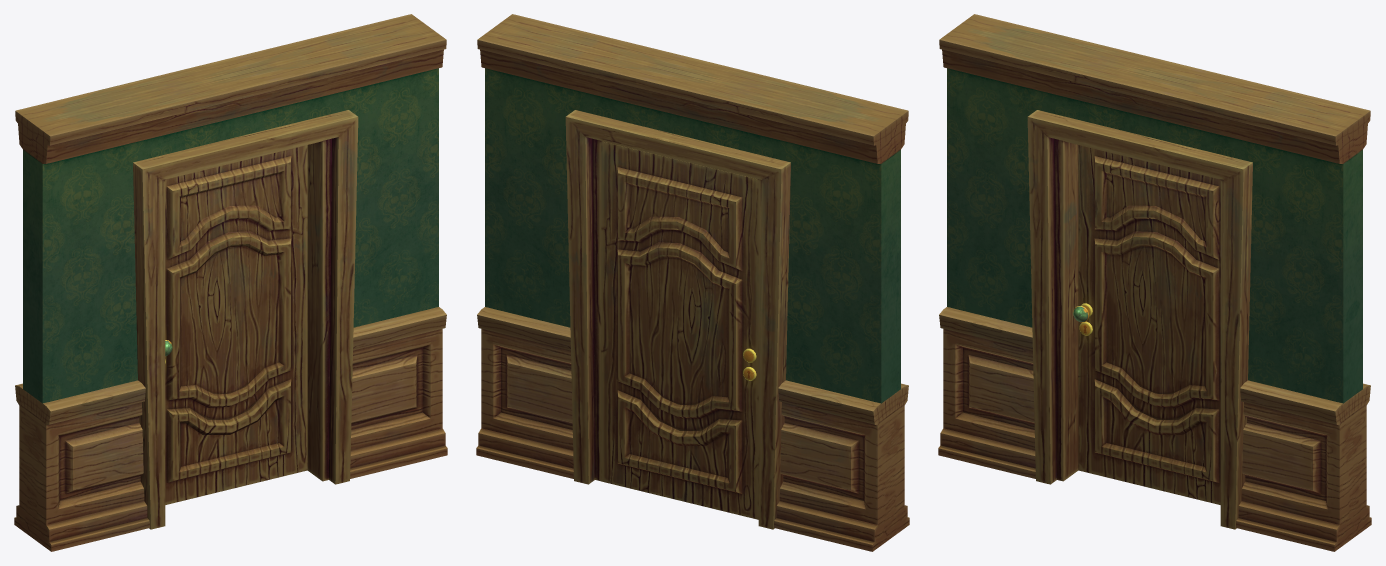
The model's file is DoorWay.fbx.
3 renders of one model, left to right at view 1: azimuth 30°, elevation 25°; view 2: azimuth 150°, elevation 25°; view 3: azimuth 330°, elevation 25°, orthographic.
Visible parts, largest first — view 1: Wall_Top_low, Door_low, Wall_Bottom_low, Door_Frame_low; view 2: Wall_Top_low, Door_low, Wall_Bottom_low, Door_Frame_low; view 3: Wall_Top_low, Door_low, Wall_Bottom_low, Door_Frame_low.
Part boxes in pixels (x1,y1,x2,y2): Wall_Top_low: [15, 14, 446, 403]; Door_low: [165, 145, 307, 504]; Wall_Bottom_low: [14, 307, 447, 551]; Door_Frame_low: [133, 110, 358, 529]; Wall_Top_low: [477, 14, 908, 403]; Door_low: [601, 141, 758, 519]; Wall_Bottom_low: [476, 307, 909, 551]; Door_Frame_low: [565, 110, 790, 529]; Wall_Top_low: [939, 14, 1370, 403]; Door_low: [1078, 145, 1220, 504]; Wall_Bottom_low: [938, 307, 1371, 551]; Door_Frame_low: [1027, 110, 1252, 529].
Bounding box in the file's own units: 241 × 242 × 40.98.
